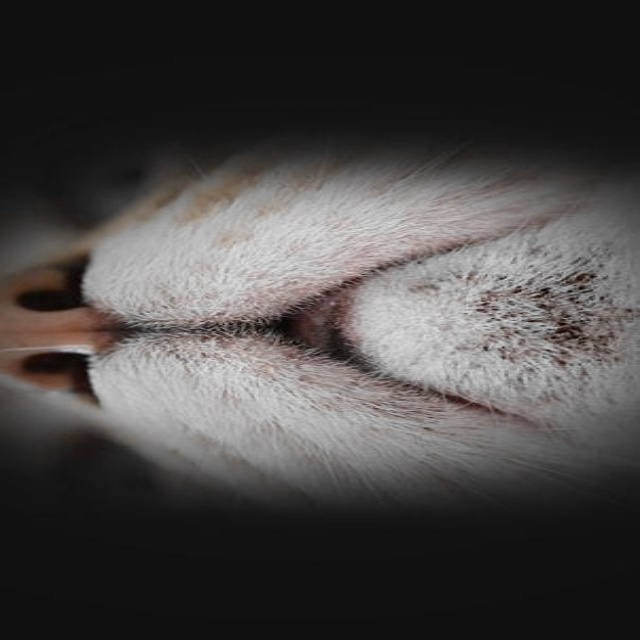acne: (453, 272, 636, 366)
